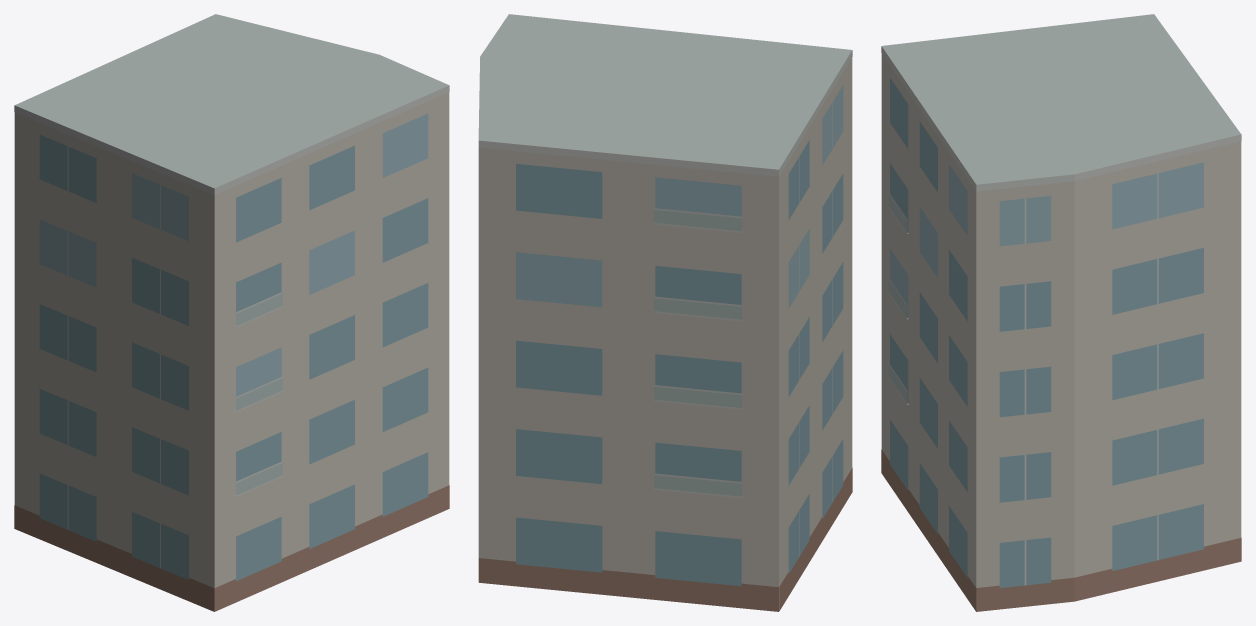
Rendered from survey-upis-32870676.glb.
3 renders of one model, left to right at view 1: azimuth 30°, elevation 25°; view 2: azimuth 150°, elevation 25°; view 3: azimuth 270°, elevation 25°, orthographic. The views are drawn at different scales.
Parts seen in each view (by area): view 1: survey-upis-32870676.tmp; view 2: survey-upis-32870676.tmp; view 3: survey-upis-32870676.tmp.
Boxes of the visible parts, x1=… form: survey-upis-32870676.tmp: x1=14, y1=14, x2=449, y2=611; survey-upis-32870676.tmp: x1=478, y1=14, x2=852, y2=611; survey-upis-32870676.tmp: x1=881, y1=14, x2=1241, y2=611.
Size of the model in its own units: 13.04 by 15.2 by 11.62.
